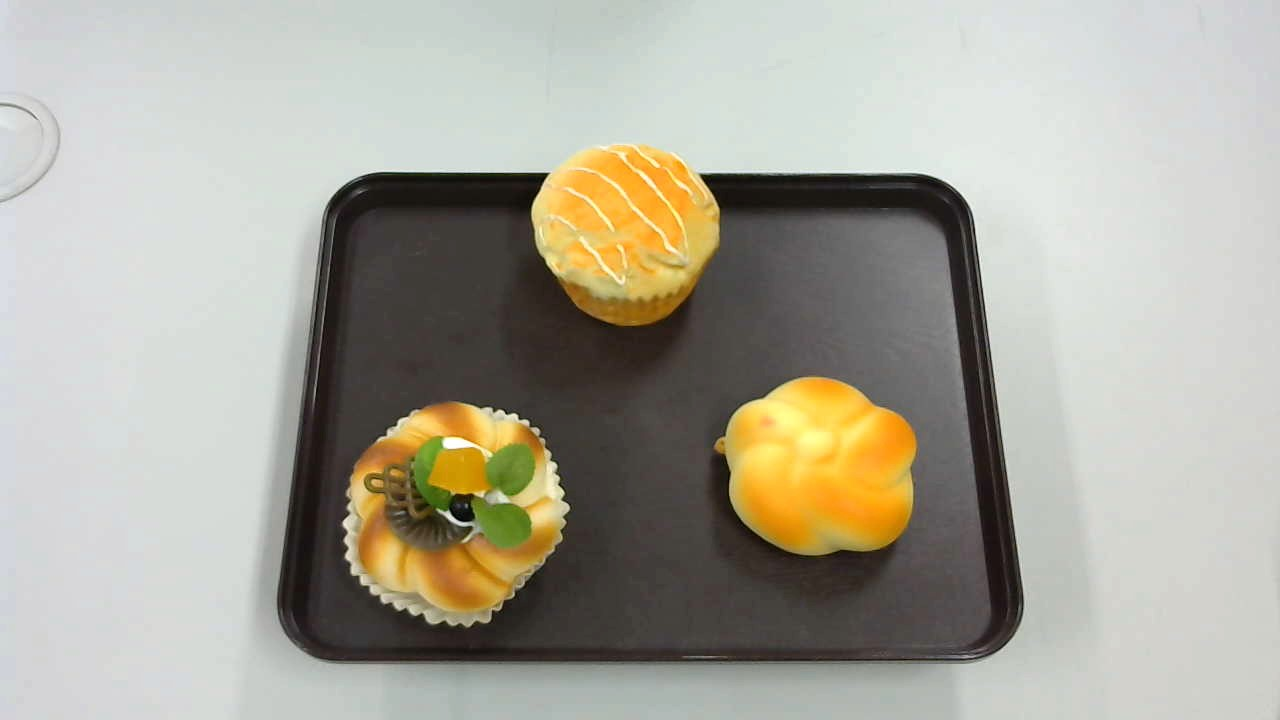croissant: (714, 375, 917, 554)
cupcake: (531, 145, 721, 325)
fruit tart: (342, 399, 571, 628)
